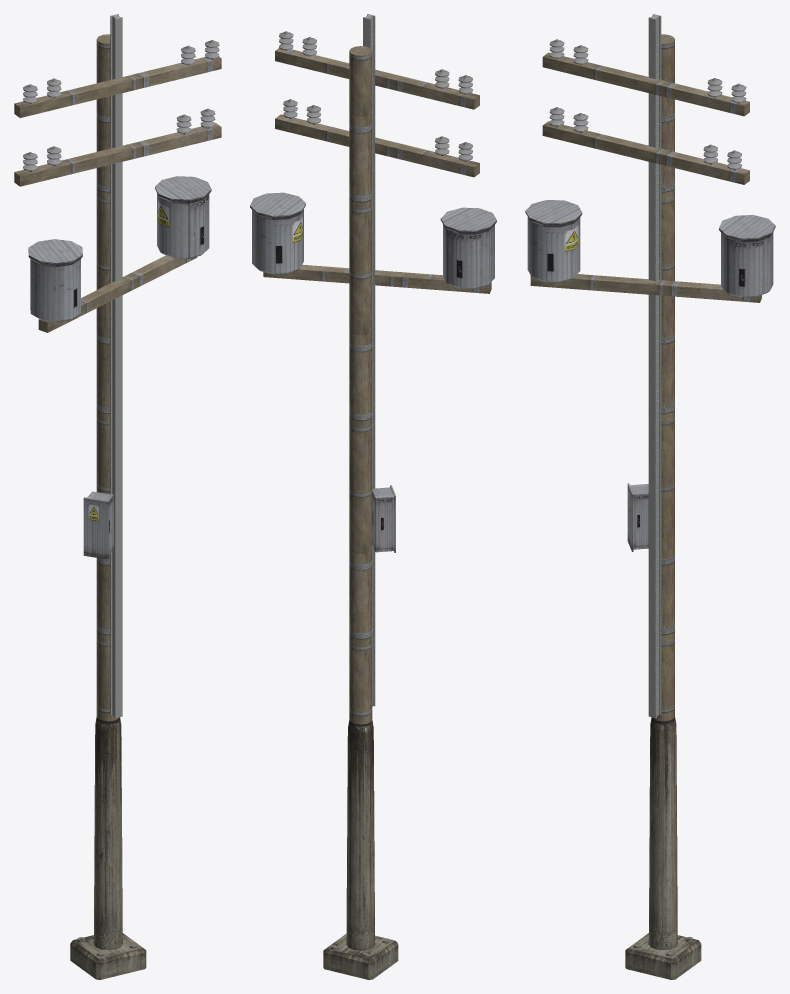
Rendered from CT_Powerpole_01.FBX.
3 views of the same model, side by side, from view 1: azimuth 30°, elevation 25°; view 2: azimuth 150°, elevation 25°; view 3: azimuth 330°, elevation 25° (orthographic).
Parts seen in each view (by area): view 1: CT_Powerpole_01; view 2: CT_Powerpole_01; view 3: CT_Powerpole_01.
Part boxes in pixels (x1,y1,x2,y2): CT_Powerpole_01: (14,14,221,979); CT_Powerpole_01: (250,14,496,979); CT_Powerpole_01: (525,14,775,979).
Bounding box in the file's own units: 166 × 723 × 83.19.
